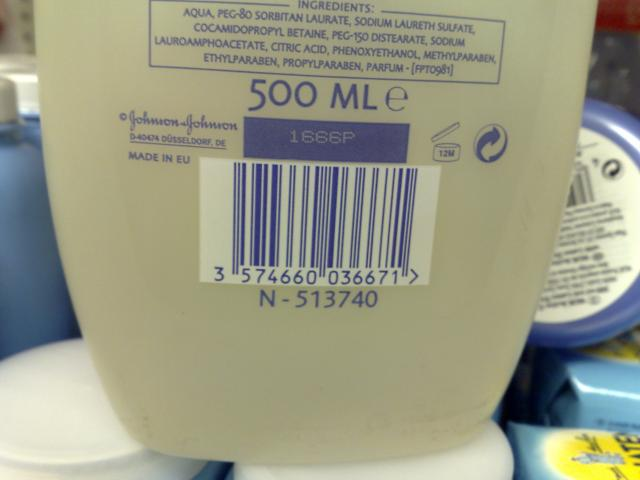Barkod: (227, 161, 416, 269)
